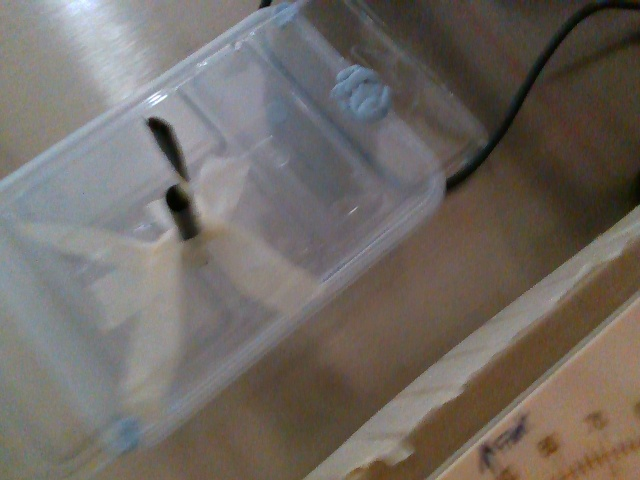test_strip: (145, 117, 193, 197)
